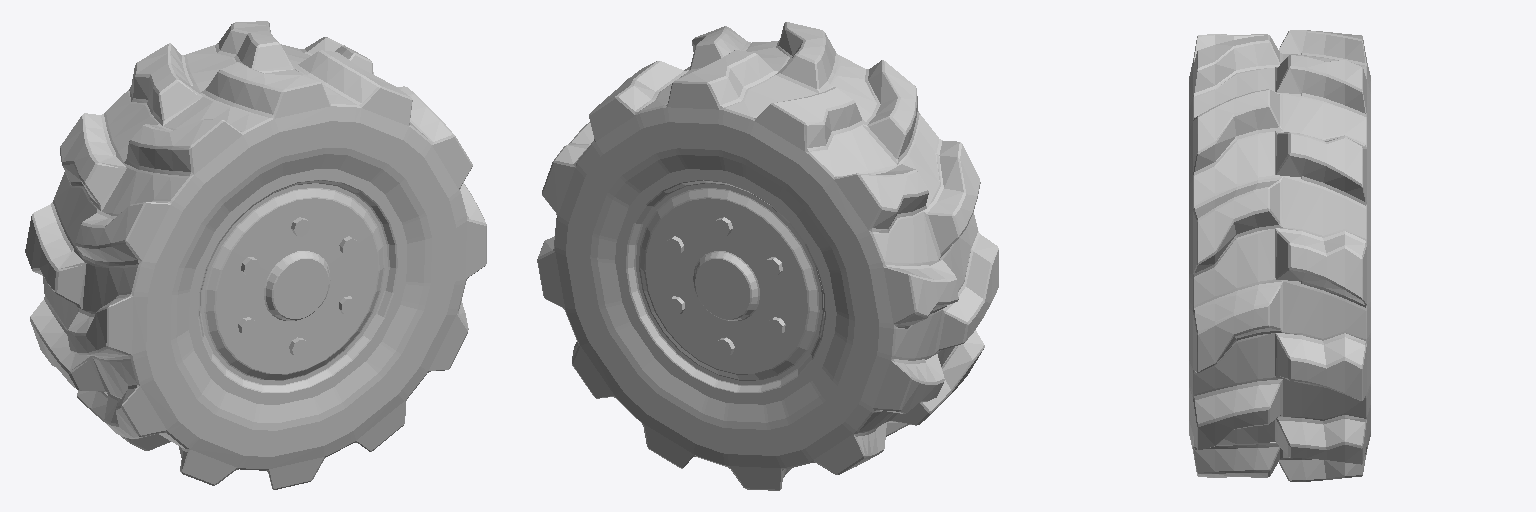
File: obj_wheels_large_small.obj
3 views of the same model, side by side, from view 1: azimuth 30°, elevation 25°; view 2: azimuth 150°, elevation 25°; view 3: azimuth 270°, elevation 25° (orthographic).
Visible parts, largest first — view 1: Plane.003_Plane.001; view 2: Plane.003_Plane.001; view 3: Plane.003_Plane.001.
Boxes of the visible parts, x1=… form: Plane.003_Plane.001: x1=25, y1=21, x2=486, y2=489; Plane.003_Plane.001: x1=537, y1=22, x2=998, y2=490; Plane.003_Plane.001: x1=1189, y1=30, x2=1370, y2=481.
Size of the model in its own units: 4.99 by 4.99 by 2.